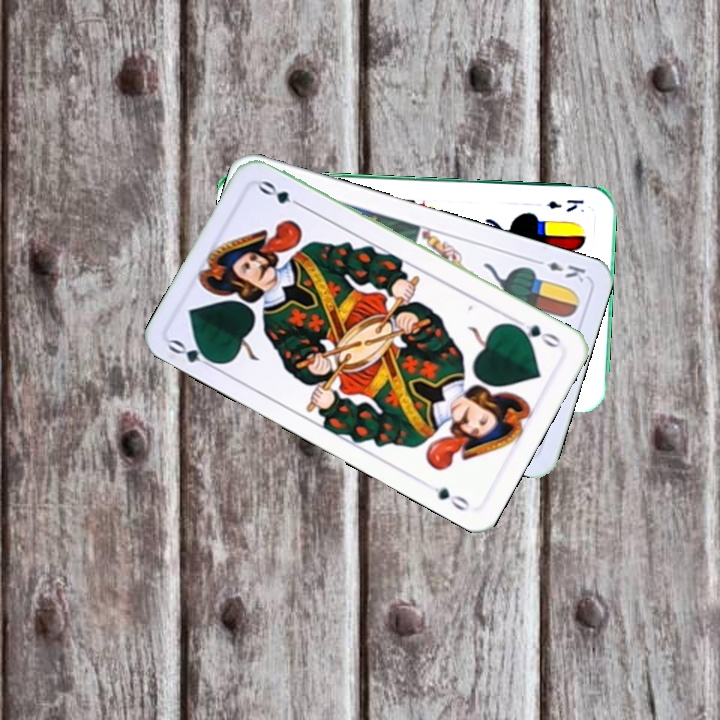EK: (530, 255, 588, 285), (544, 195, 586, 215)
GO: (164, 335, 222, 373), (508, 315, 563, 351)
